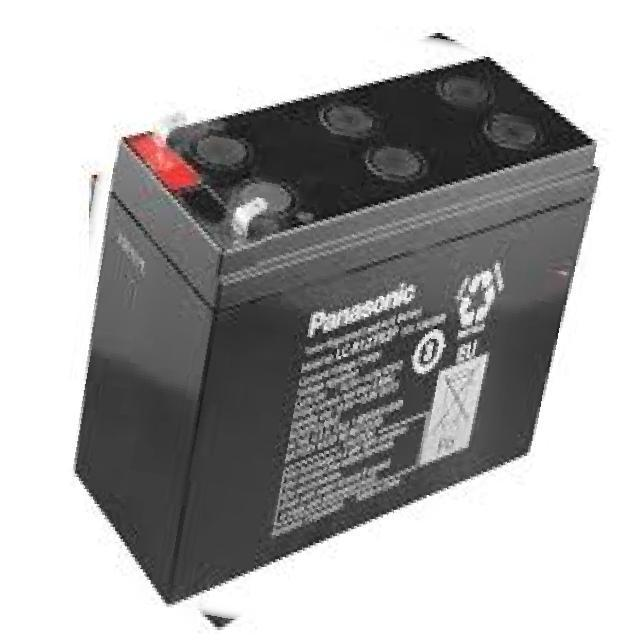Battery: (25, 24, 640, 631)
